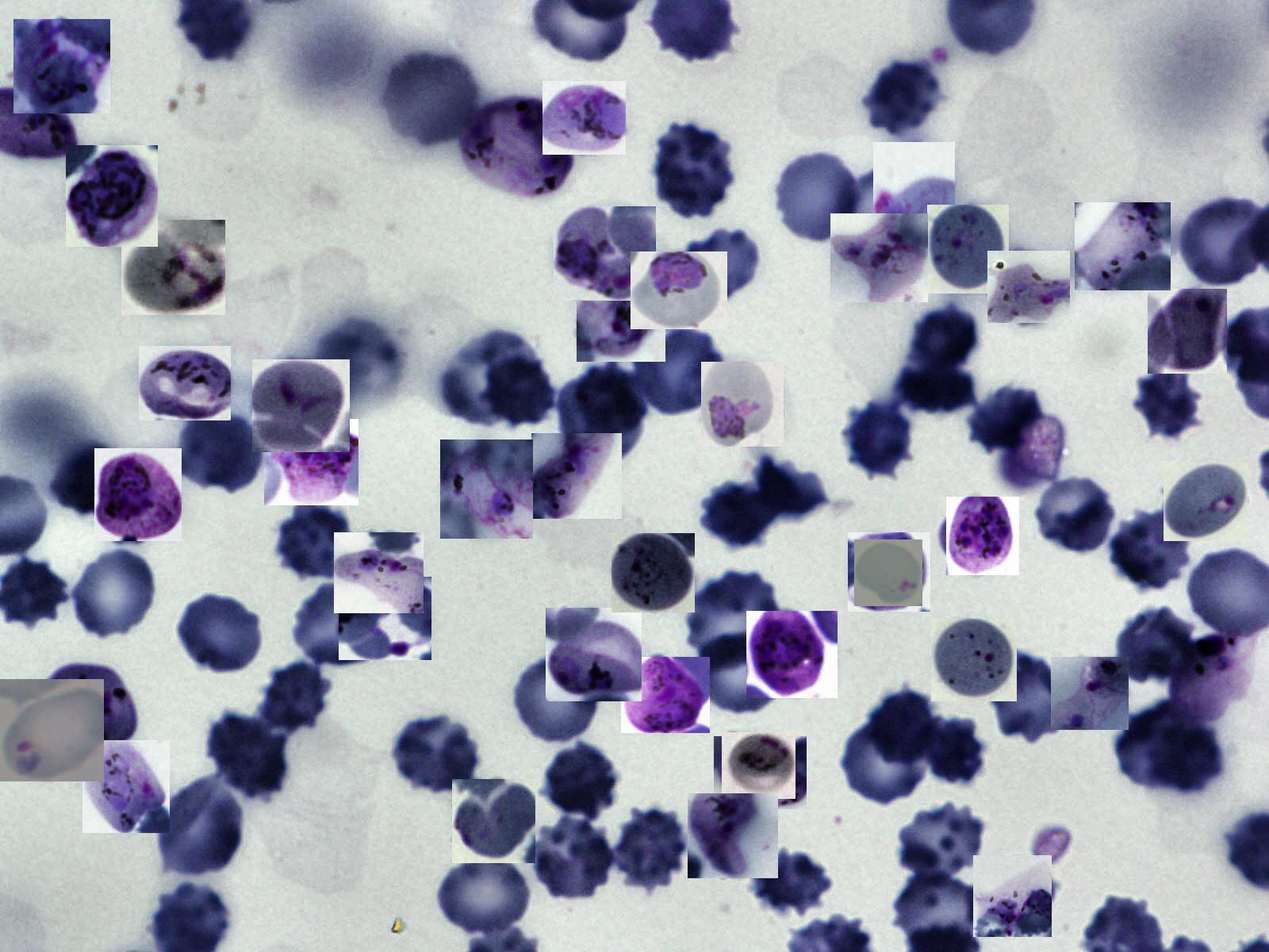Infected: (454, 97, 574, 201), (0, 679, 104, 781), (121, 220, 225, 315), (873, 142, 955, 261), (554, 206, 656, 301), (43, 663, 136, 764), (66, 145, 158, 247), (440, 440, 533, 539), (13, 19, 110, 113), (252, 359, 350, 452), (546, 608, 642, 701), (830, 213, 928, 302), (1075, 202, 1171, 290), (1167, 633, 1256, 727), (577, 268, 665, 362), (82, 740, 170, 833), (94, 448, 182, 541), (264, 419, 358, 505), (747, 611, 838, 698), (531, 433, 622, 519), (688, 793, 778, 878), (339, 577, 431, 660), (631, 251, 727, 329), (927, 205, 1009, 294), (334, 532, 424, 613), (701, 362, 784, 447), (931, 619, 1017, 701), (452, 779, 535, 863), (139, 346, 231, 420), (714, 736, 807, 809), (621, 657, 710, 733), (1148, 289, 1227, 374), (612, 533, 696, 612), (848, 532, 930, 612), (1164, 463, 1248, 541), (973, 855, 1052, 937), (542, 81, 626, 155), (987, 251, 1070, 323), (1, 84, 80, 159), (1051, 657, 1129, 730), (946, 497, 1019, 575), (722, 732, 796, 799), (937, 503, 1010, 569), (854, 539, 922, 606)
Uninfected: (379, 48, 478, 150), (682, 572, 780, 670), (554, 367, 650, 467), (435, 332, 537, 426), (155, 780, 248, 880), (771, 149, 865, 245), (433, 851, 536, 938), (77, 539, 164, 640), (512, 654, 604, 746), (292, 581, 387, 670), (838, 717, 934, 805), (691, 631, 788, 716), (649, 125, 738, 217), (205, 712, 293, 800), (634, 328, 723, 415), (174, 594, 266, 676), (174, 412, 266, 494), (390, 714, 484, 794), (895, 803, 990, 881), (528, 819, 618, 900), (679, 225, 765, 309), (987, 653, 1067, 743), (1030, 474, 1119, 553), (611, 806, 692, 891), (1107, 512, 1194, 591), (46, 440, 130, 521), (1114, 608, 1199, 686), (541, 741, 623, 821), (270, 508, 360, 580), (479, 347, 556, 431), (858, 61, 944, 136), (749, 846, 835, 919), (259, 660, 337, 739), (867, 689, 942, 766), (914, 712, 987, 787), (841, 403, 914, 476), (1131, 365, 1200, 441), (911, 302, 984, 370), (700, 483, 774, 550), (967, 387, 1042, 451), (752, 459, 830, 519)
